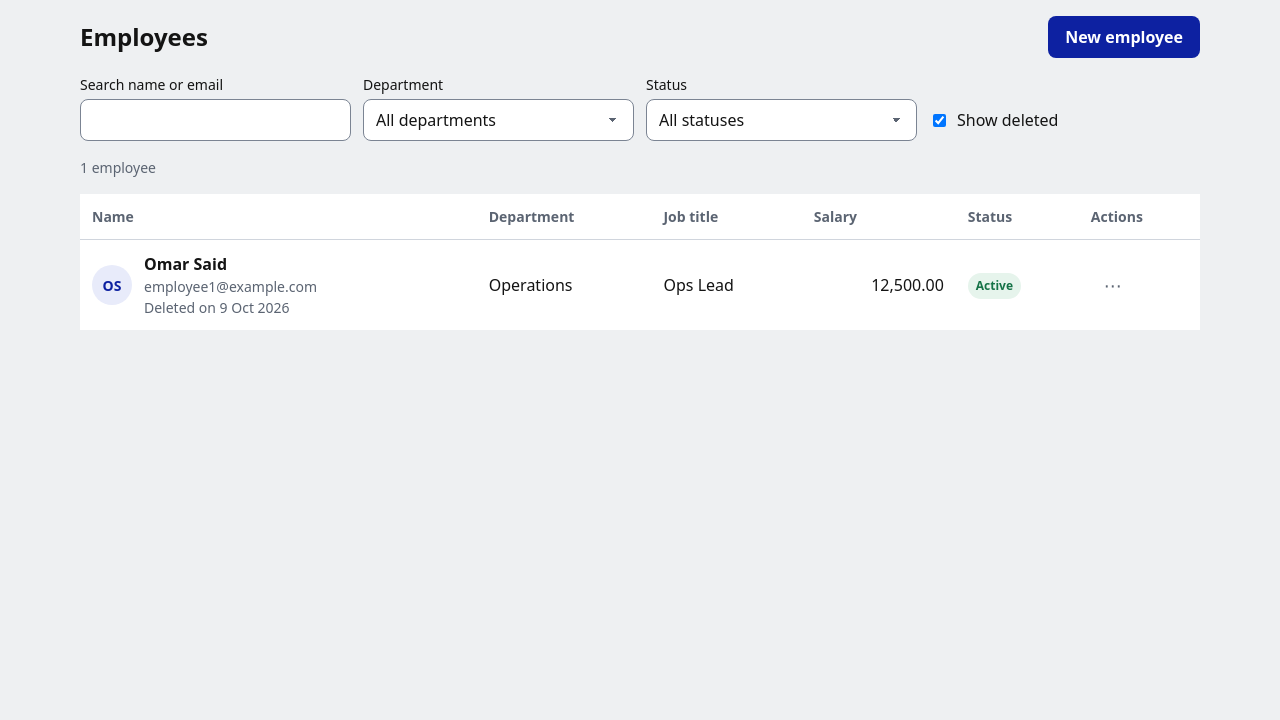
Scenario: EmployeesPage - deleted view and restore › restores, shows a success toast and refetches the list
Expected: the table is shown, x1=80 y1=194 x2=1200 y2=330
Click the button named "actions" at (1113,285), box x1=1091 y1=266 x2=1135 y2=304
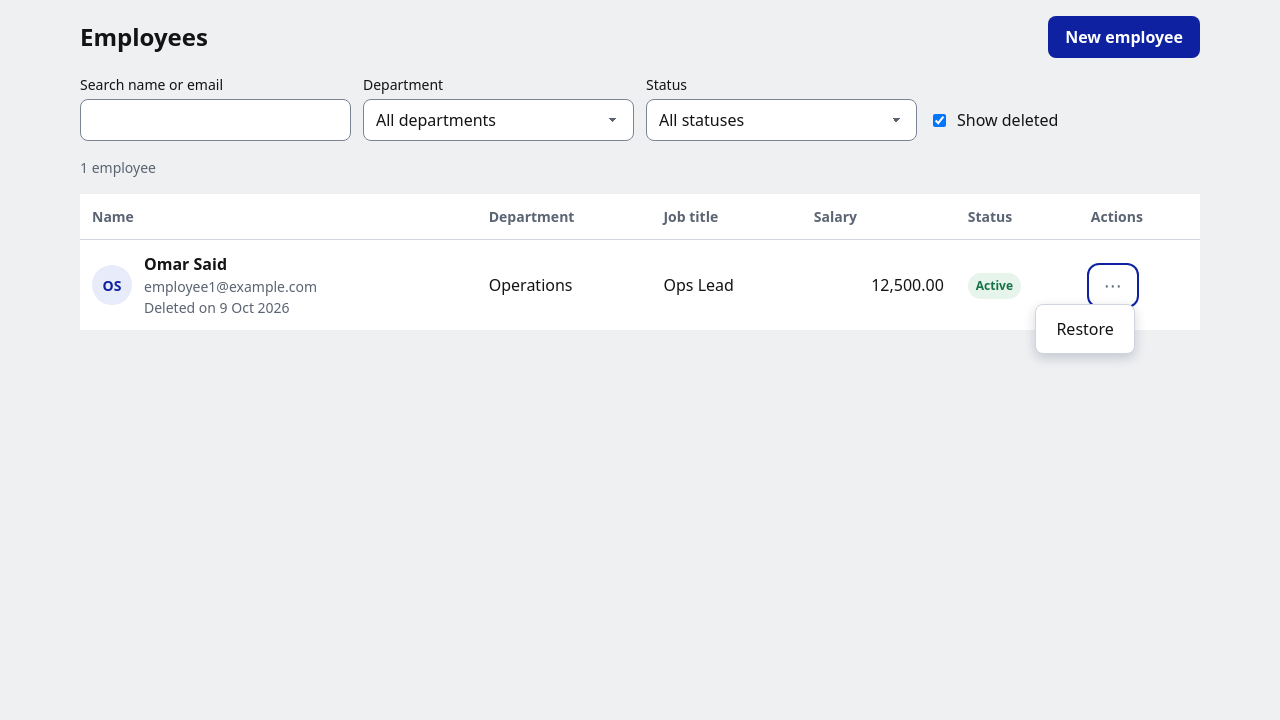
Click the menu item "Restore" at (1085,328), box x1=1040 y1=308 x2=1130 y2=348
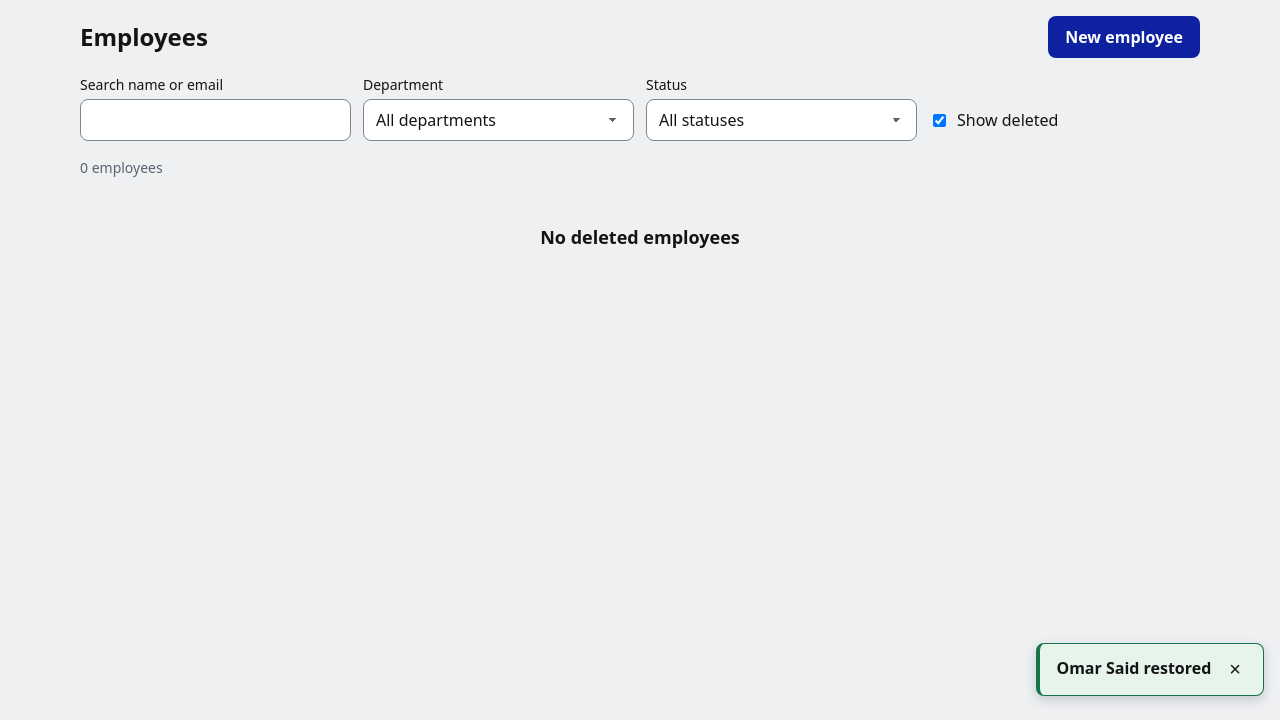
Result: the text "Omar Said restored" is shown at x1=1056 y1=656 x2=1211 y2=680
